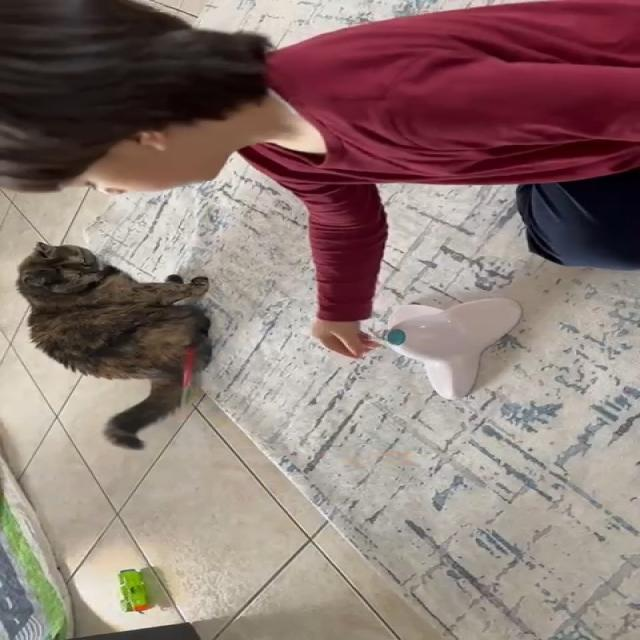authorized: (15, 240, 212, 450)
